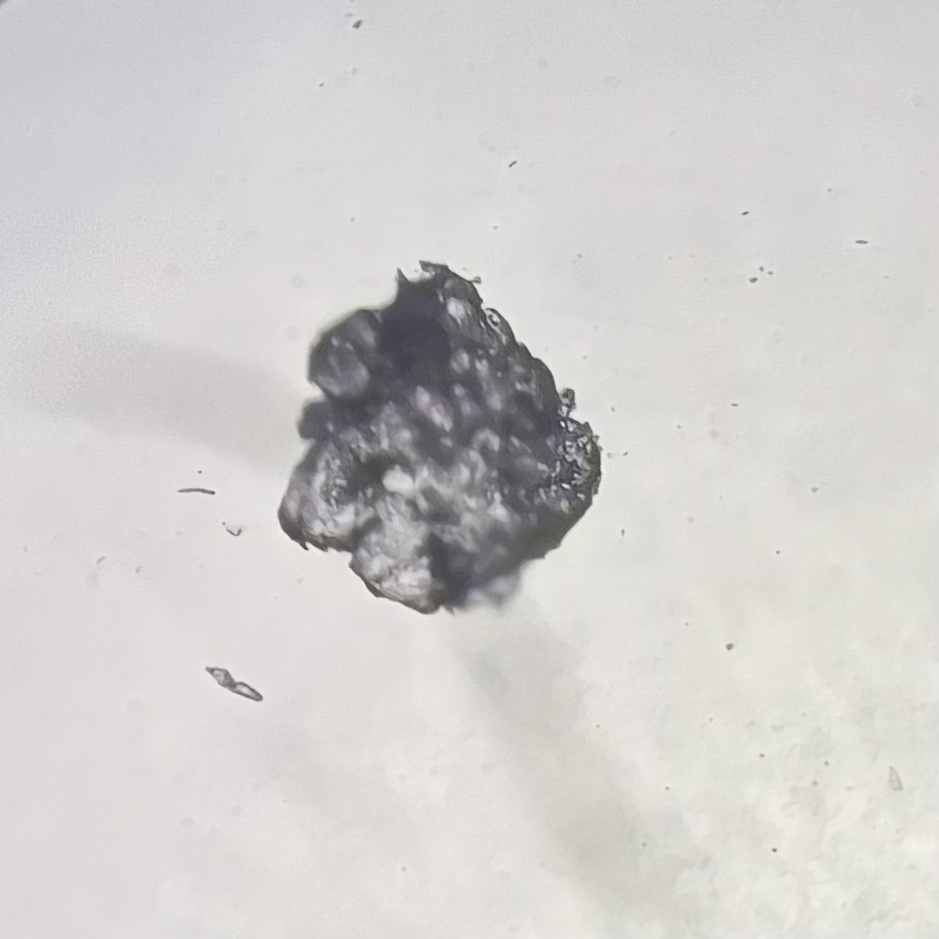microplastic: (279, 262, 604, 612), (207, 665, 264, 702), (178, 485, 217, 496)
